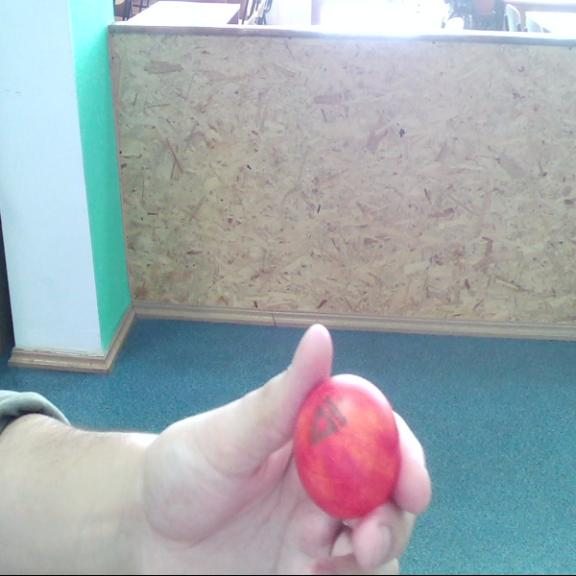ball: (294, 374, 400, 517)
